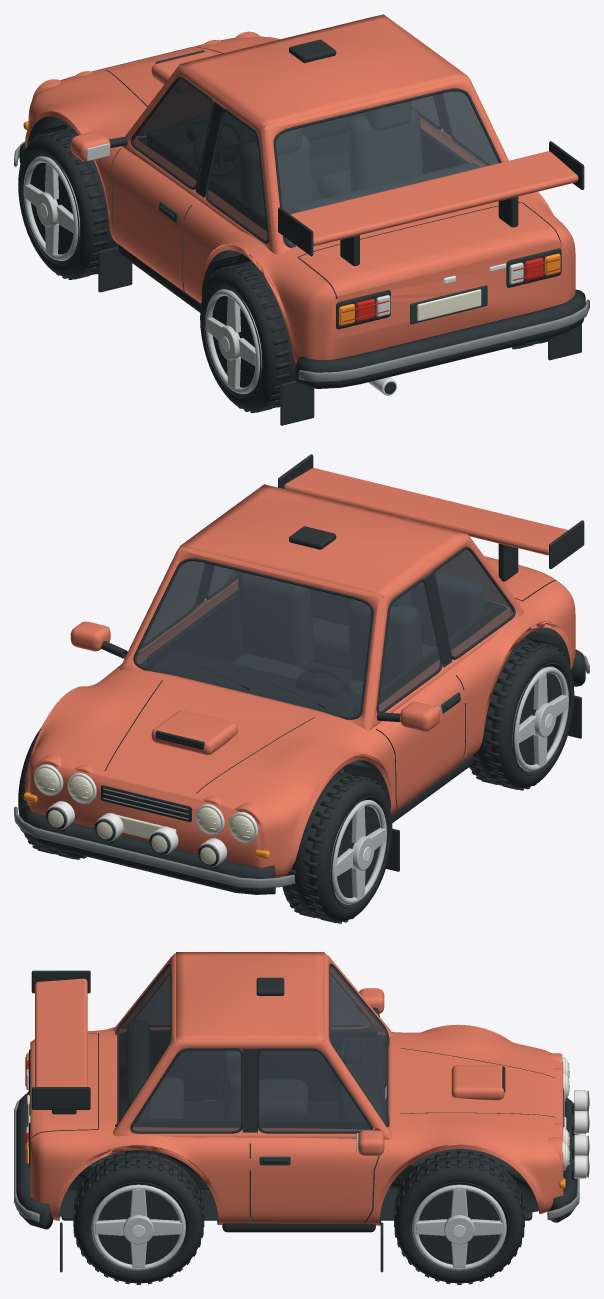
The model's file is rally.fbx.
The picture shows the model from 3 angles, top to bottom: view 1: azimuth 30°, elevation 25°; view 2: azimuth 150°, elevation 25°; view 3: azimuth 270°, elevation 25°; orthographic projection. The views are drawn at different scales.
Visible parts, largest first — view 1: Body, Wheel_RL_Mesh, Wheel_FL_Mesh; view 2: Body, Wheel_FL_Mesh, Wheel_RL_Mesh, Wheel_FR_Mesh; view 3: Body, Wheel_RR_Mesh, Wheel_FR_Mesh.
Boxes of the visible parts, x1,y1,x2,y2 form: Body: [14, 14, 589, 425]; Wheel_RL_Mesh: [200, 261, 296, 413]; Wheel_FL_Mesh: [18, 127, 118, 279]; Body: [14, 454, 589, 894]; Wheel_FL_Mesh: [282, 771, 392, 923]; Wheel_RL_Mesh: [469, 638, 574, 790]; Wheel_FR_Mesh: [18, 727, 86, 859]; Body: [14, 952, 589, 1272]; Wheel_RR_Mesh: [73, 1151, 204, 1284]; Wheel_FR_Mesh: [394, 1151, 524, 1284].
Size of the model in its own units: 236 by 169 by 372.
